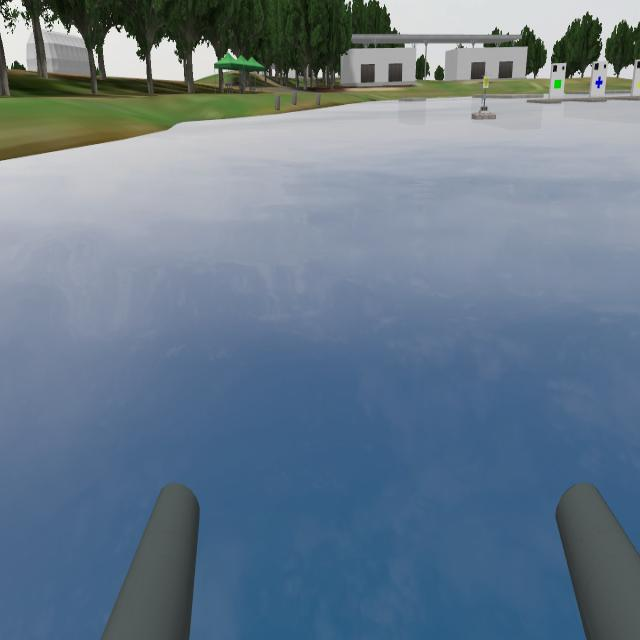yellow_pole: (479, 68, 492, 91)
